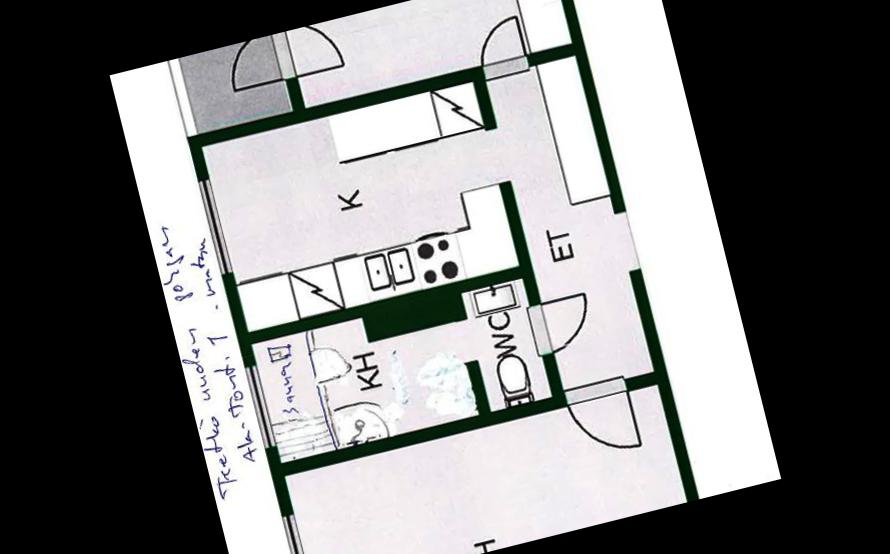door: (562, 372, 646, 460), (522, 283, 601, 360), (218, 32, 294, 96), (469, 9, 533, 84), (274, 19, 348, 83)
window: (193, 170, 237, 280), (237, 354, 283, 456), (608, 197, 649, 280), (274, 504, 320, 554)
